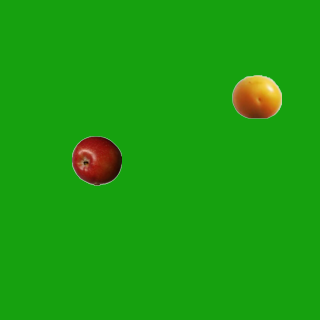Apple Braeburn: (71, 135, 121, 185)
Cherry Wax Yellow: (231, 71, 281, 121)
